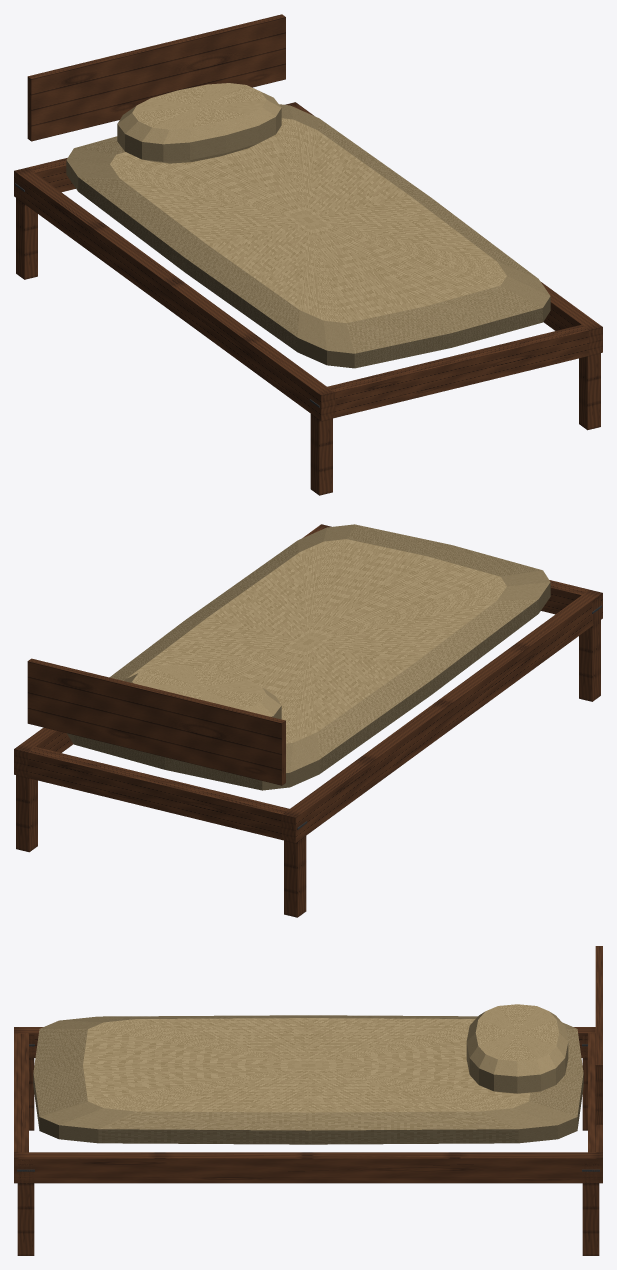
Rendered from basic_bed.obj.
3 views of the same model, one above another, from view 1: azimuth 30°, elevation 25°; view 2: azimuth 150°, elevation 25°; view 3: azimuth 270°, elevation 25° (orthographic). The views are drawn at different scales.
Visible parts, largest first — view 1: material_6, material_5, material_9, material_7, material_8, material_10; view 2: material_5, material_6, material_9, material_7, material_10; view 3: material_6, material_5, material_9, material_7, material_10, material_8.
Boxes of the visible parts, x1=… form: material_6: x1=110, y1=83, x2=506, y2=323; material_5: x1=14, y1=14, x2=602, y2=495; material_9: x1=66, y1=104, x2=550, y2=353; material_7: x1=66, y1=160, x2=550, y2=368; material_8: x1=117, y1=108, x2=281, y2=161; material_10: x1=117, y1=91, x2=281, y2=163; material_5: x1=14, y1=524, x2=602, y2=917; material_6: x1=128, y1=539, x2=506, y2=743; material_9: x1=109, y1=524, x2=550, y2=772; material_7: x1=67, y1=582, x2=550, y2=790; material_10: x1=124, y1=673, x2=281, y2=716; material_6: x1=83, y1=1004, x2=558, y2=1112; material_5: x1=14, y1=946, x2=602, y2=1255; material_9: x1=33, y1=1015, x2=583, y2=1130; material_7: x1=33, y1=1073, x2=583, y2=1144; material_10: x1=466, y1=1011, x2=568, y2=1093; material_8: x1=466, y1=1043, x2=568, y2=1093.
Size of the model in its own units: 33.48 by 21.76 by 62.99.
7 materials, 7 textured.
